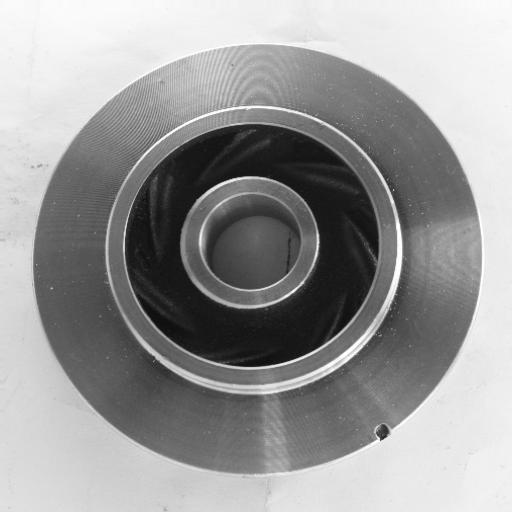pit: (368, 419, 400, 448)
unpolished_casting: (29, 39, 483, 480)
